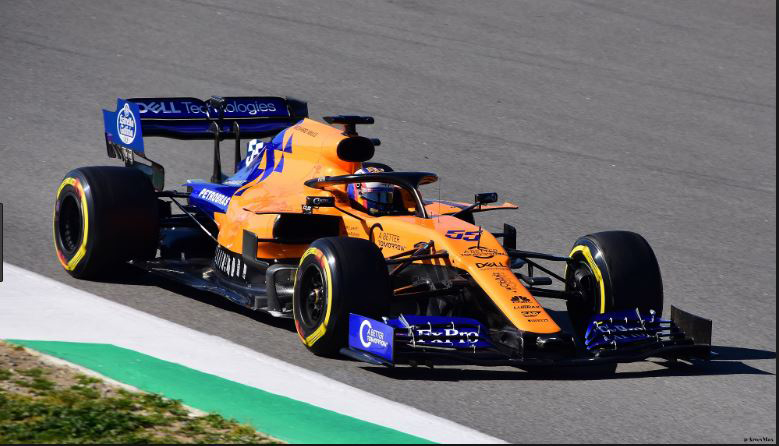F1 Car: (45, 91, 720, 370)
